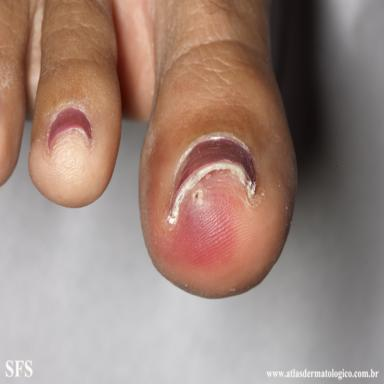Tungiasis: (192, 189, 204, 206)
